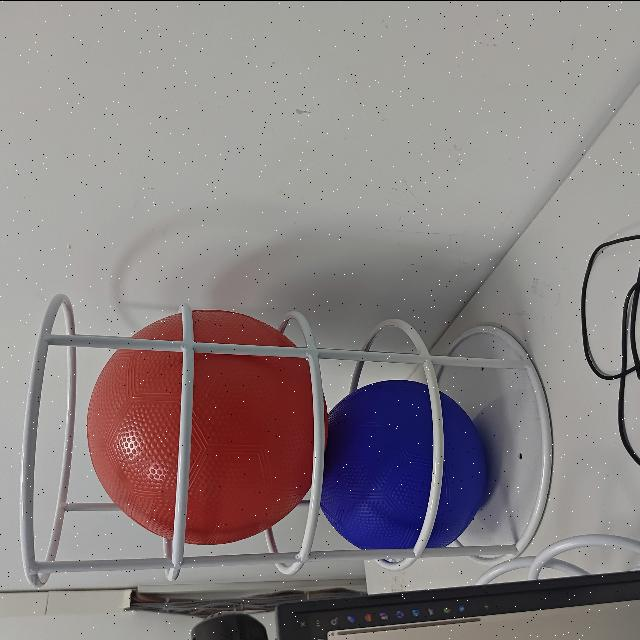B: (320, 378, 502, 560)
R: (89, 306, 324, 546)
S: (19, 310, 550, 588)
